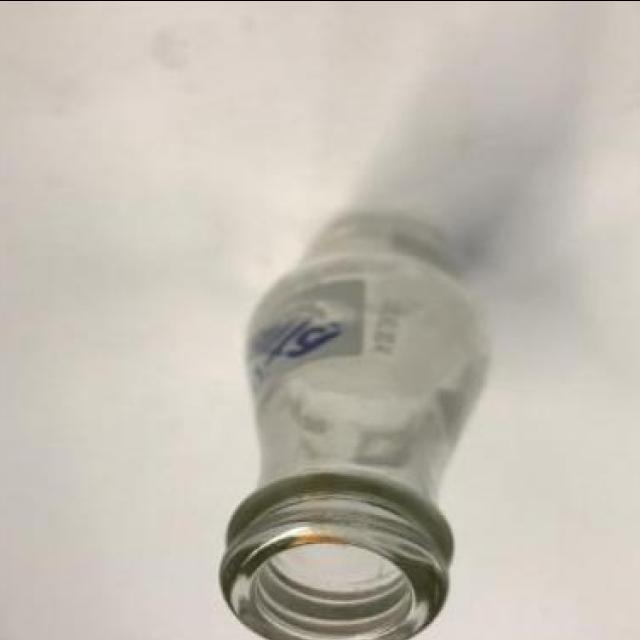kaca: (216, 213, 488, 640)
